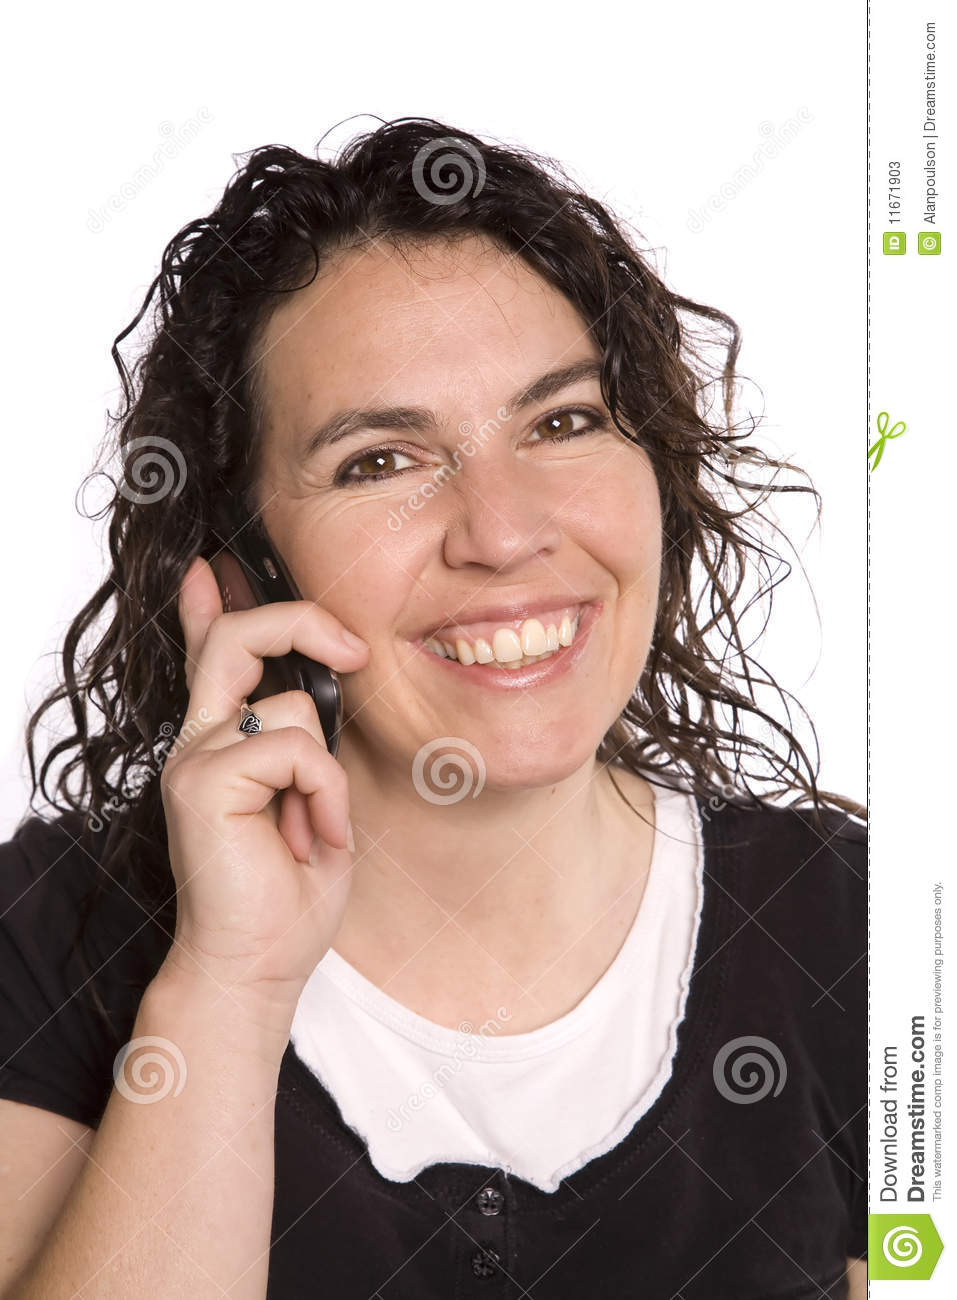phone: (197, 467, 345, 765)
talk: (154, 351, 661, 1052)
